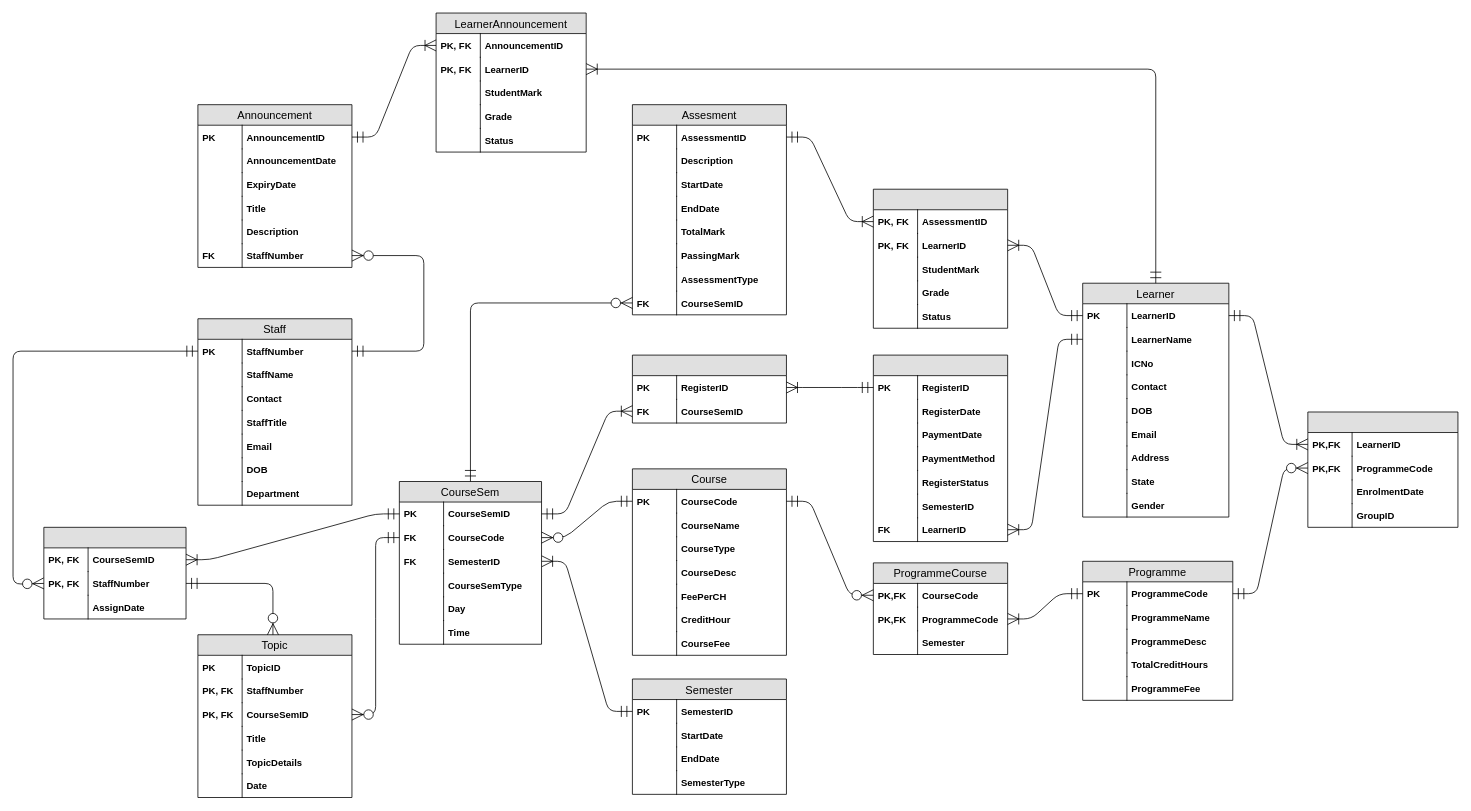
The diagram is 1471 pixels wide and 811 high, and some of its shapes have lost their labels. The box of each missing label's shape, as (x1, y1, x2, y2) in pixels:
AssignStaff: (43, 527, 186, 619)
CourseDetail: (632, 354, 786, 423)
LearnerAssesment: (873, 188, 1008, 328)
LearnerProgramme: (1307, 411, 1458, 527)
RegisterCourse: (873, 354, 1008, 542)
